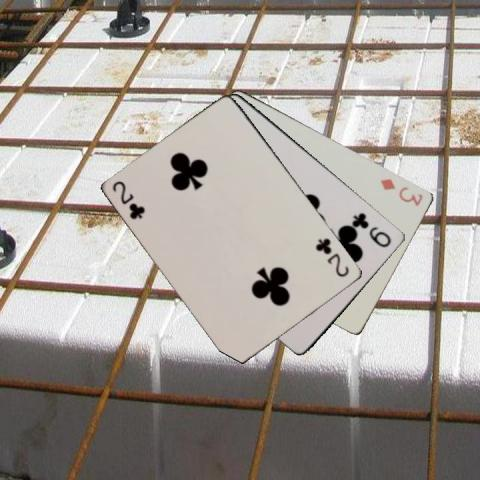2c: (313, 235, 351, 278), (110, 178, 147, 221)
3d: (377, 175, 425, 208)
9c: (350, 209, 393, 249)
